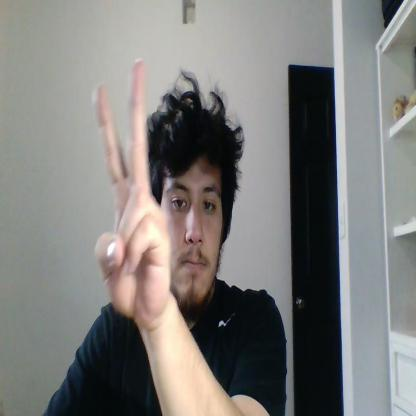V: (92, 59, 170, 321)
